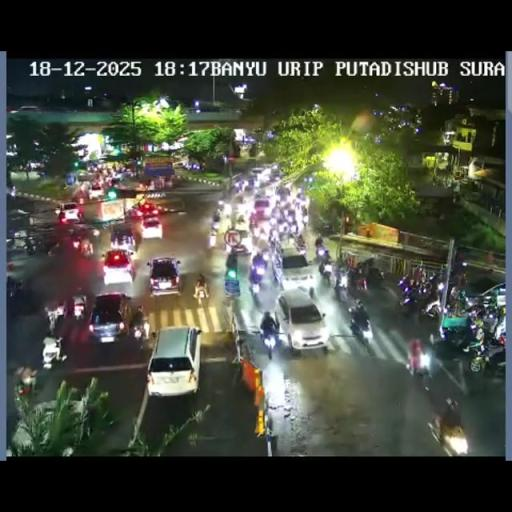Car: (146, 326, 202, 397), (275, 288, 327, 350), (88, 292, 131, 342), (278, 243, 316, 291), (146, 256, 182, 296), (102, 250, 136, 286), (468, 280, 505, 310), (224, 254, 241, 298), (109, 226, 136, 252), (70, 230, 94, 258), (229, 228, 254, 254), (55, 202, 82, 222), (141, 216, 163, 238), (70, 294, 88, 320), (136, 200, 159, 218), (252, 198, 271, 219), (88, 184, 104, 199), (249, 166, 265, 180), (76, 169, 91, 181)
Motorcycle: (467, 323, 504, 372), (435, 314, 476, 356), (436, 397, 466, 448), (348, 310, 374, 348), (406, 338, 430, 376), (41, 335, 66, 368), (258, 324, 280, 358), (417, 298, 441, 329), (398, 289, 420, 319), (249, 251, 267, 287), (14, 372, 35, 402), (134, 319, 152, 349), (356, 257, 378, 279), (24, 234, 45, 256), (464, 302, 486, 322), (45, 304, 61, 330), (46, 239, 68, 257), (250, 282, 264, 309), (318, 258, 332, 284), (333, 274, 346, 302), (449, 285, 466, 306), (6, 276, 22, 298), (194, 284, 208, 308), (314, 244, 330, 263), (418, 278, 434, 296), (268, 225, 282, 245), (233, 178, 248, 194), (219, 199, 232, 217), (90, 225, 101, 244), (356, 274, 367, 292), (296, 240, 307, 257), (210, 214, 220, 232), (208, 229, 217, 247), (249, 214, 257, 230), (237, 214, 245, 224), (308, 286, 314, 298)
